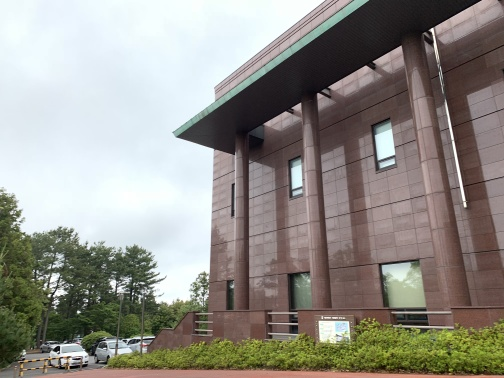Museum: (172, 11, 494, 359)
